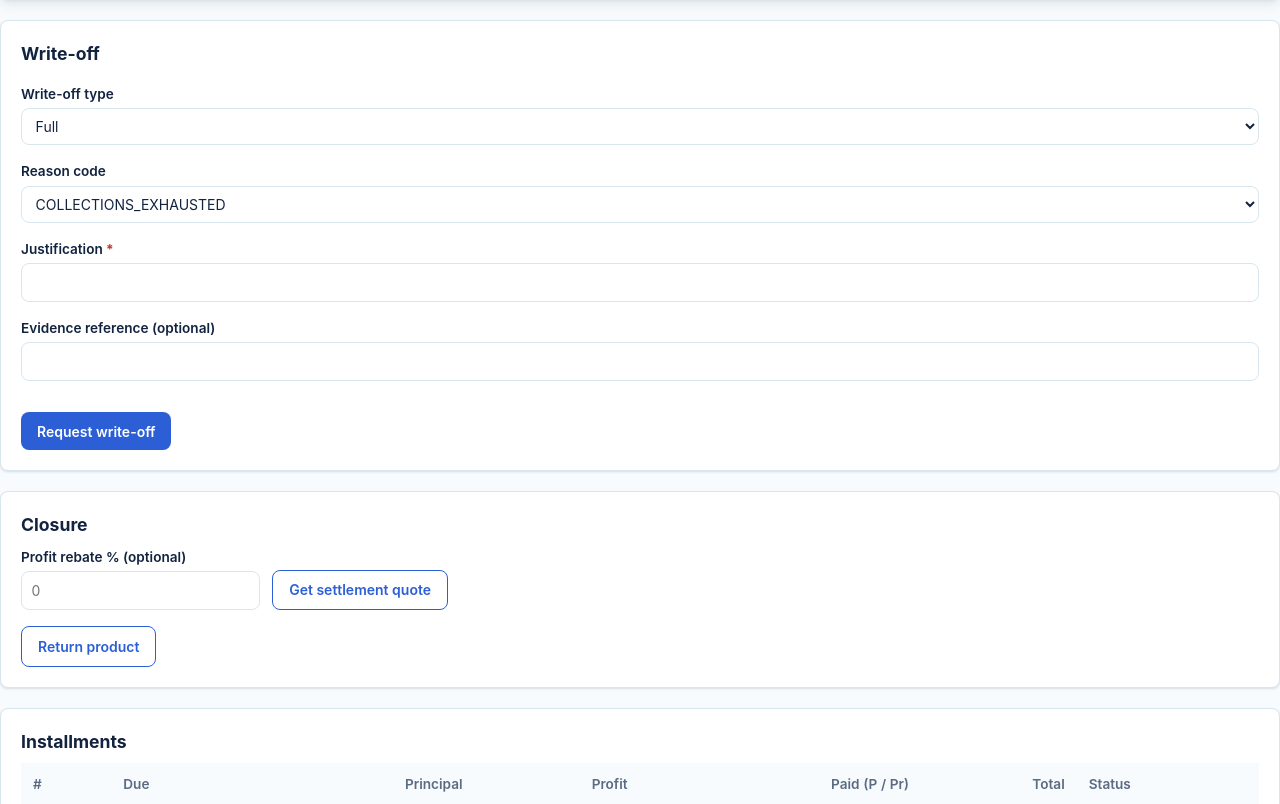
Test: Contract settlement — flexible profit rebate (BDR #7) › a requested rebate flags a deviation and routes settlement through approval
The width and height of the screenshot is (1280, 804).
(page scrolled)
Type "40" into the field with test id "rebate-pct".
click(141, 591); type("40")  # box [21, 571, 260, 610]
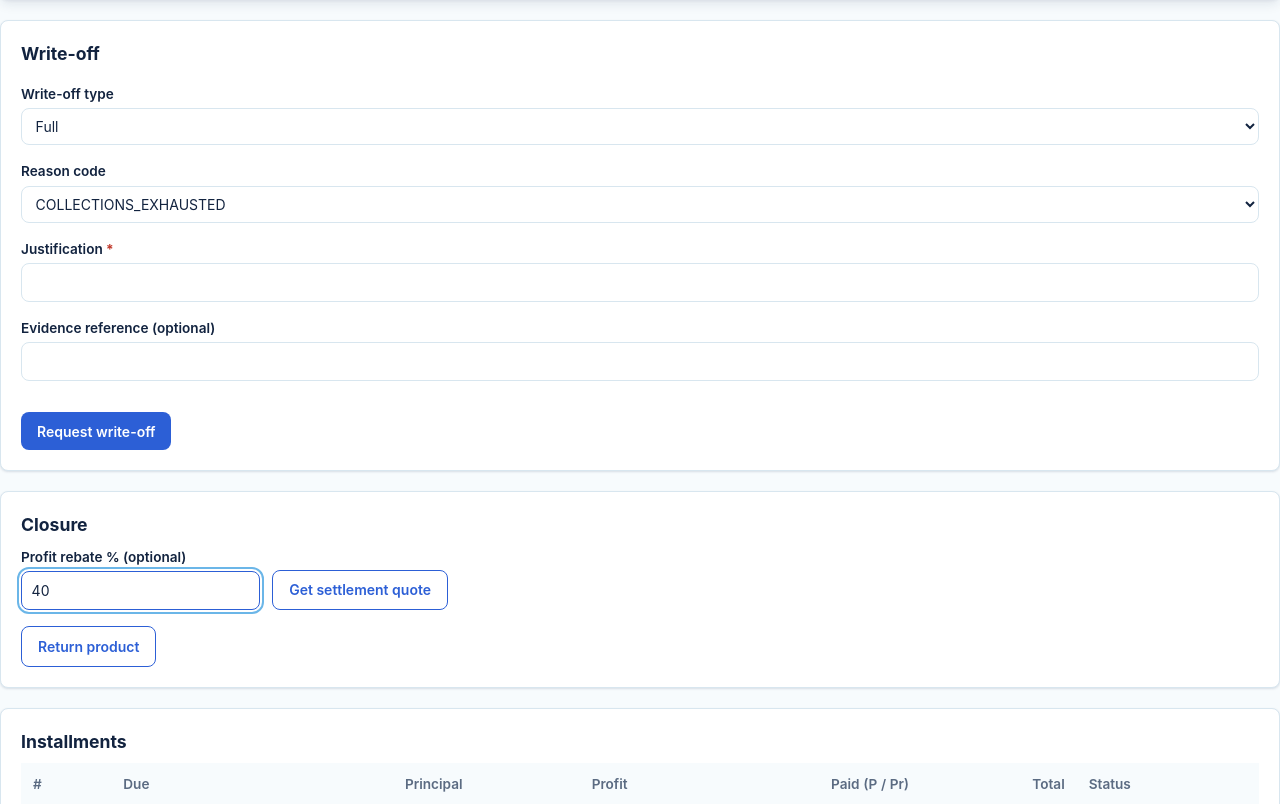
Click the button with test id "get-quote".
click(360, 590)  # box [272, 570, 448, 610]
(page scrolled)
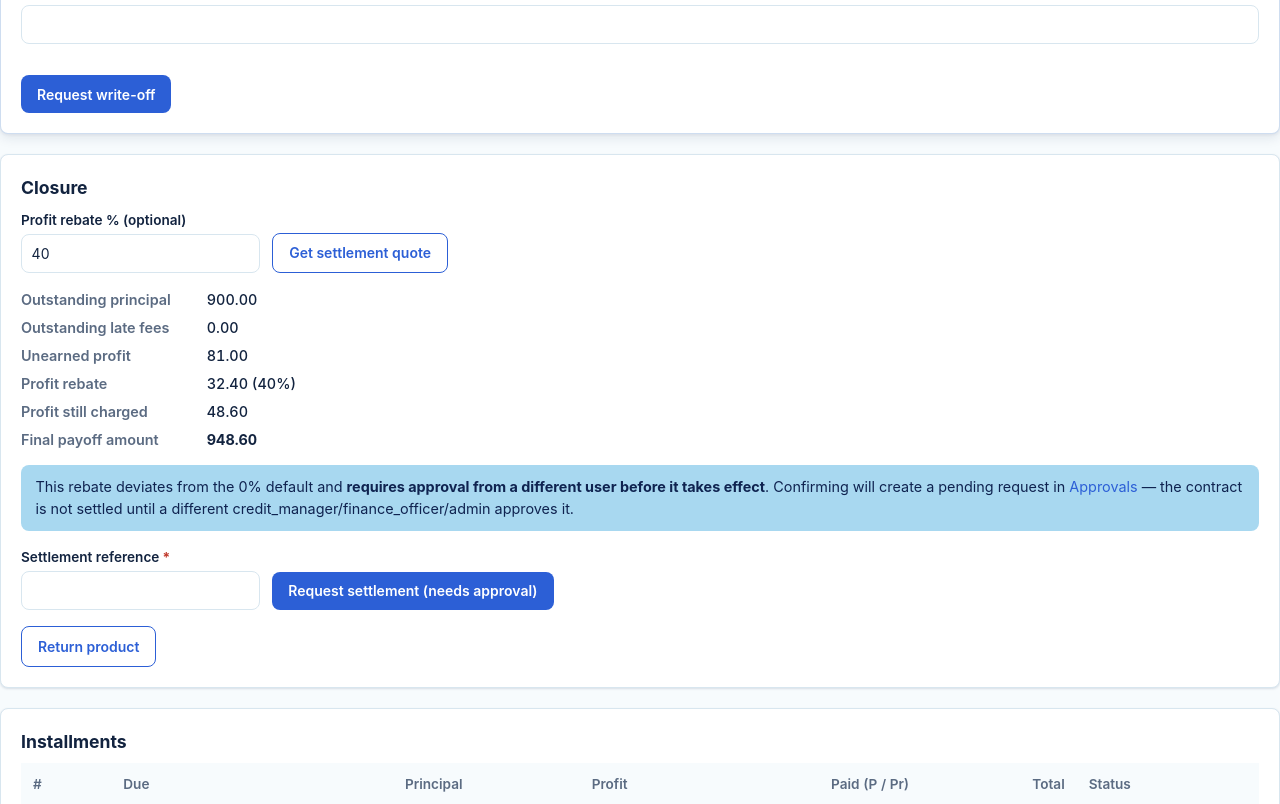
Expected: the element with test id "rebate-deviation-note" shows "requires approval from a different user", [347, 478, 765, 495]
Expected: the button with test id "confirm-settlement" shows "needs approval", [272, 572, 554, 610]
Type "REF-2" into the field labelled "Settlement reference".
click(141, 591); type("REF-2")  # box [21, 571, 260, 610]
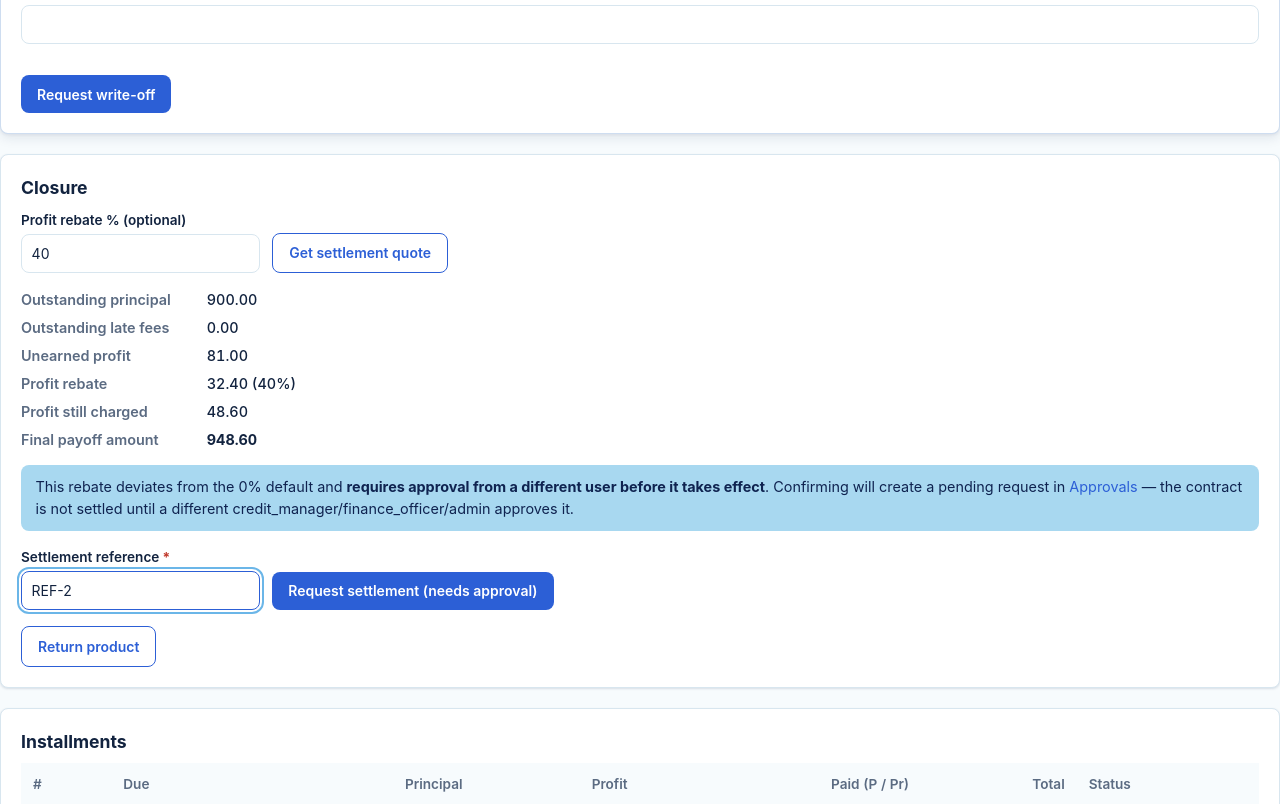
Click the button with test id "confirm-settlement".
click(413, 591)  # box [272, 572, 554, 610]
(page scrolled)
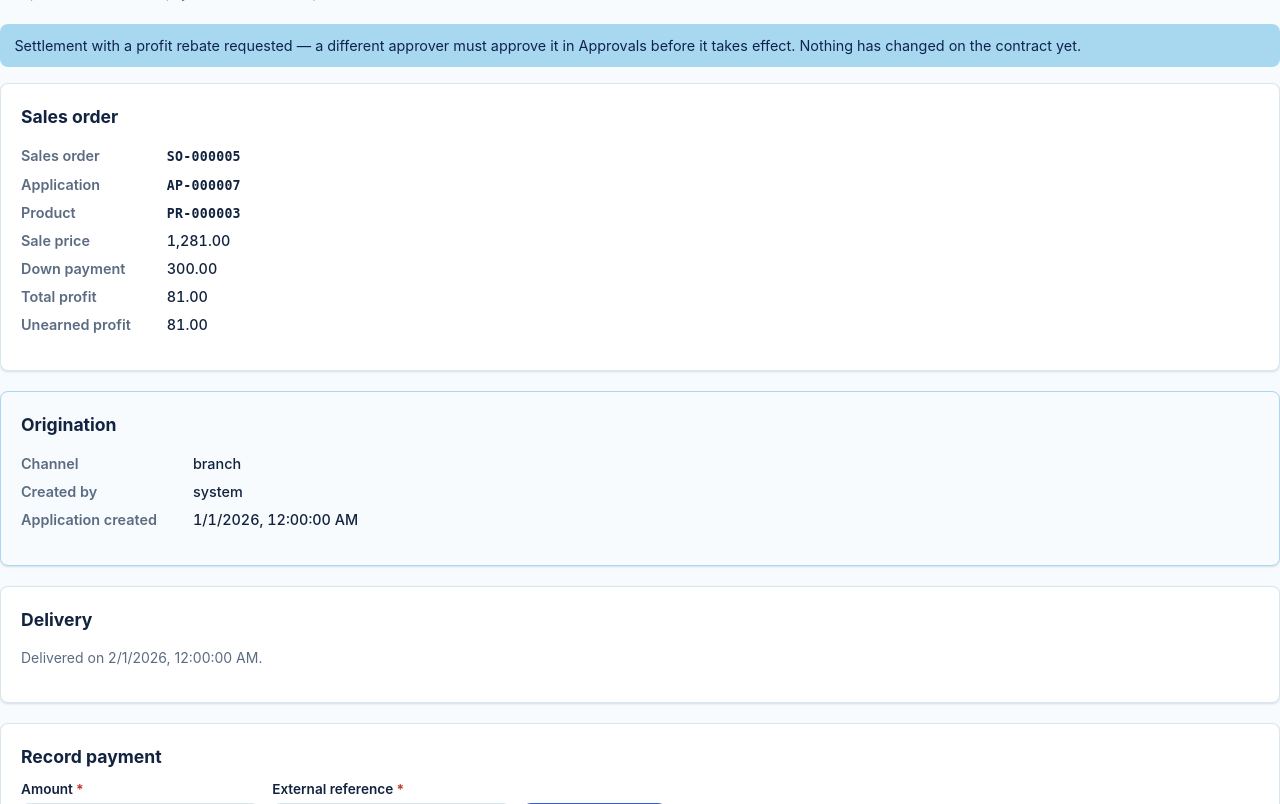
Expected: the text "a different approver must approve it in Approvals" is shown, [14, 37, 1081, 54]
